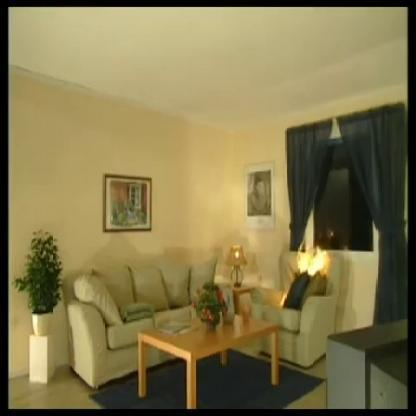fire: (290, 237, 333, 284)
